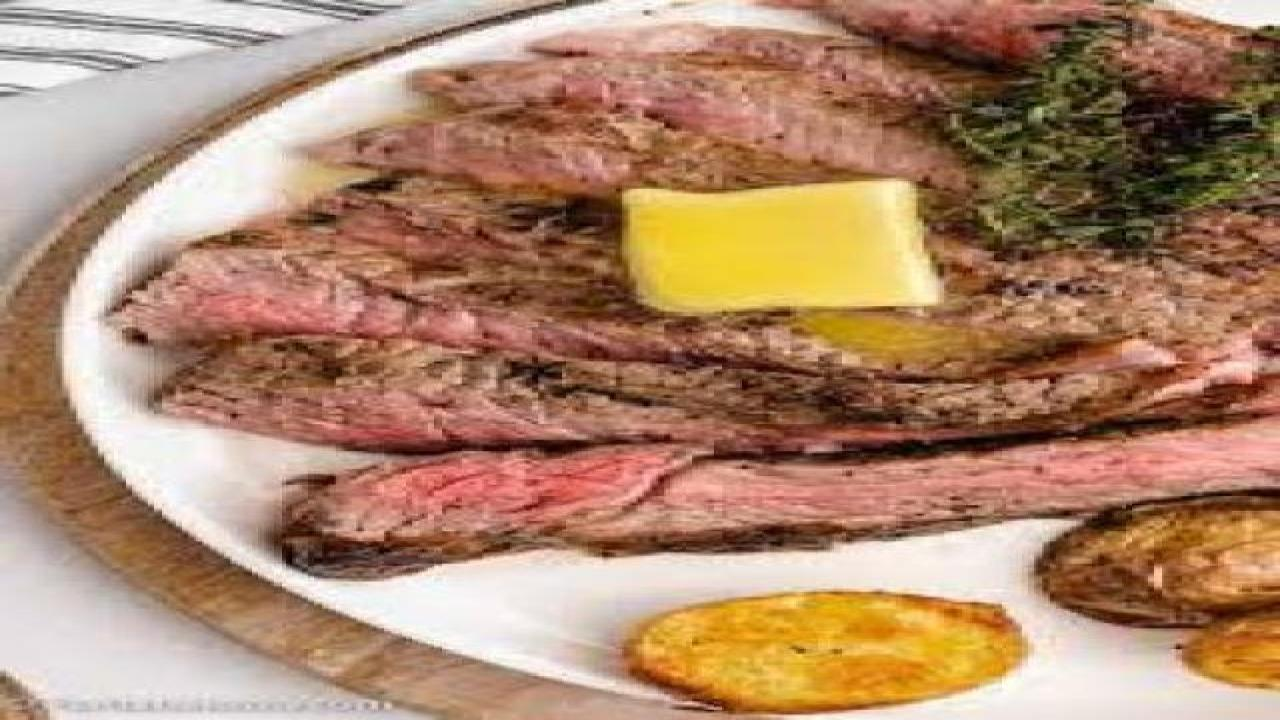Carne: (148, 10, 1278, 508)
